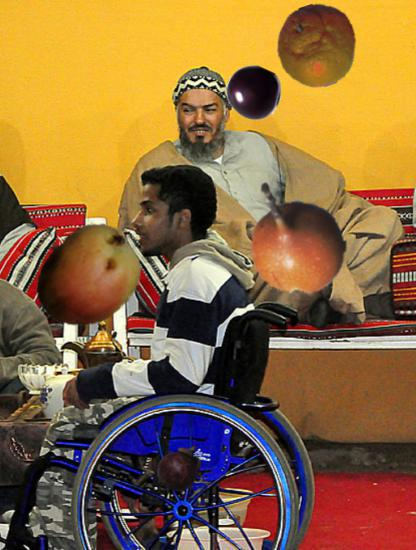Cherry: (226, 65, 282, 121)
Granadilla: (242, 182, 357, 297)
Mandarine: (275, 4, 359, 88)
Mangostan: (155, 441, 207, 493)
Papaya: (32, 221, 144, 333)
